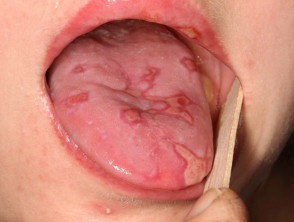SJS-TEN: (117, 59, 213, 153), (169, 129, 220, 194), (176, 47, 226, 104), (158, 8, 208, 44), (61, 91, 93, 108), (67, 61, 86, 77)
